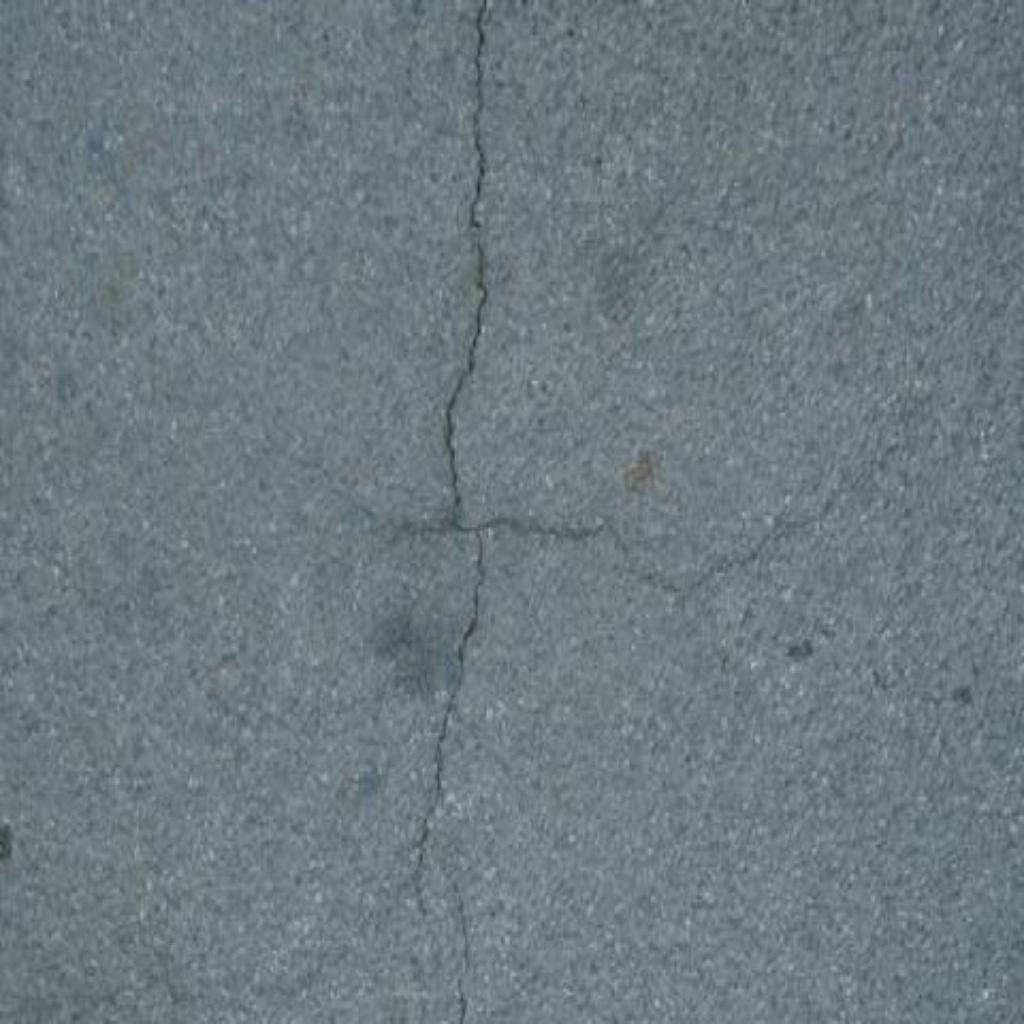Crack: (410, 1, 489, 1024)
